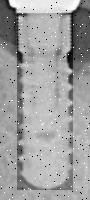BioLife: (16, 13, 74, 190)
